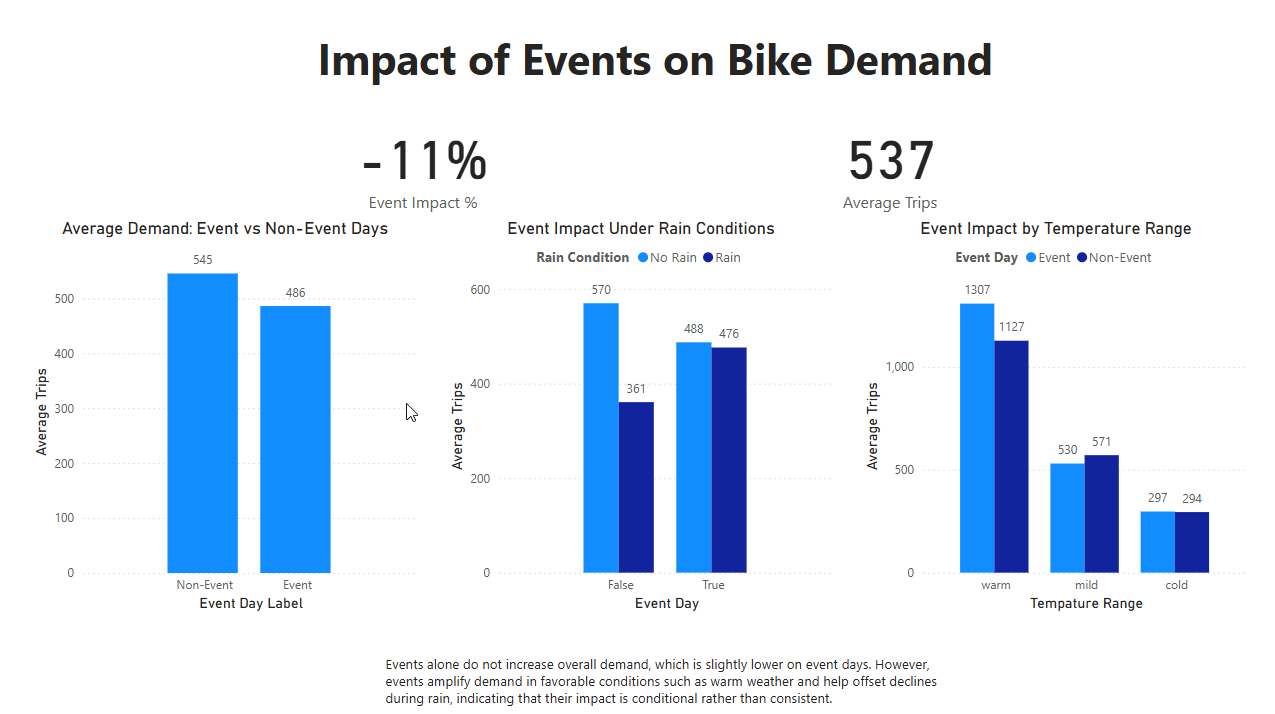

Layout of this report page (visuals, bound fields, positions):
{"tool":"powerbi","page":{"name":"Event Impact","canvas":[1280,720],"ordinal":2},"visuals":[{"type":"card","fields":{"Values":["demand.Event Impact %"]},"box":[195.5,106,219.8,109.9],"z":0},{"type":"card","fields":{"Values":["demand.Avg Trips"]},"box":[862.7,106,219.8,109.9],"z":1000},{"type":"clusteredColumnChart","title":"Average Demand: Event vs Non-Event Days","fields":{"Y":["demand.Avg Trips"],"Category":["demand.Event Day Label"]},"box":[20.4,259.7,394.9,397.8],"z":2000},{"type":"clusteredColumnChart","title":"Event Impact Under Rain Conditions","fields":{"Y":["demand.Avg Trips"],"Category":["demand.Event Day Label"],"Series":["demand.Rain Condition Label"]},"box":[441.6,259.7,394.9,397.8],"z":3000},{"type":"clusteredColumnChart","title":"Event Impact by Temperature Range","fields":{"Y":["demand.Avg Trips"],"Series":["demand.Event Day Label"],"Category":["demand.Temp Bucket Label"]},"box":[862.7,259.7,394.9,397.8],"z":4000},{"type":"textbox","box":[285,0,709.1,72.9],"z":5000},{"type":"textbox","box":[299.6,657.5,687.7,62.2],"z":6000}]}

Visuals, with their boxes in screenshot pixels (x1, y1, x2, y2), scaled from the page's 1280x720 canvas onto the 1275x714 screenshot:
card - demand.Event Impact %: <box>195,105,414,214</box>
card - demand.Avg Trips: <box>859,105,1078,214</box>
"Average Demand: Event vs Non-Event Days" clusteredColumnChart: <box>20,258,414,652</box>
"Event Impact Under Rain Conditions" clusteredColumnChart: <box>440,258,833,652</box>
"Event Impact by Temperature Range" clusteredColumnChart: <box>859,258,1253,652</box>
textbox: <box>284,0,990,72</box>
textbox: <box>298,652,983,713</box>
